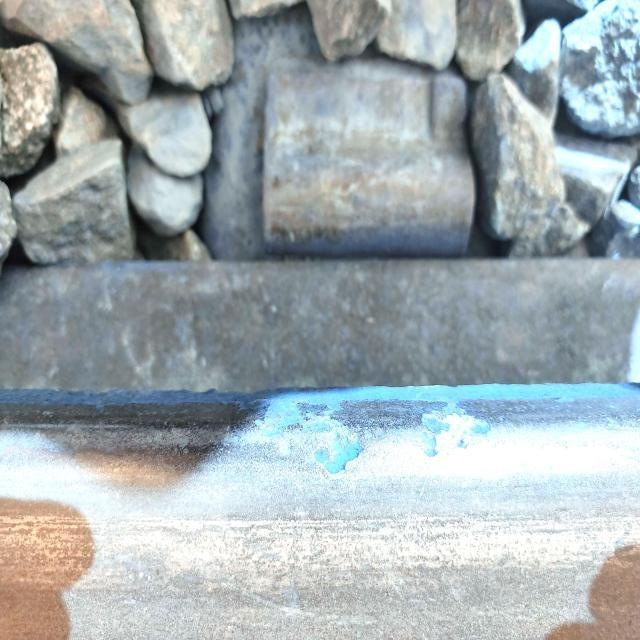Missing Fastener: (234, 41, 522, 261)
